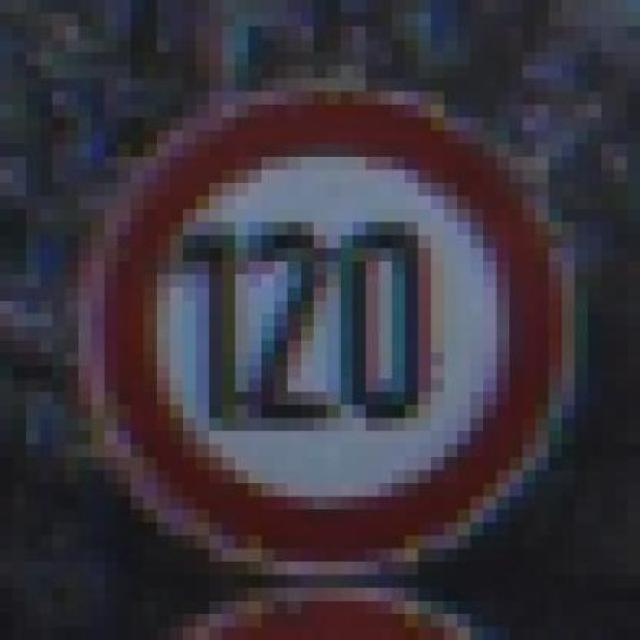forb_speed_over_120: (98, 98, 565, 564)
